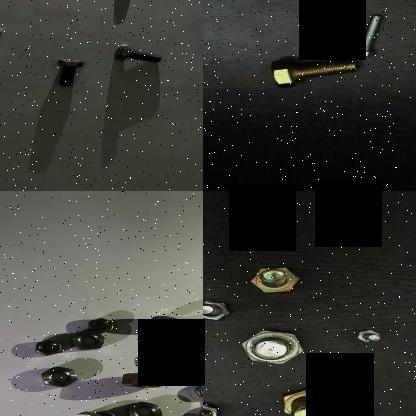Bolts: (255, 54, 364, 90), (234, 326, 310, 366), (241, 262, 310, 294), (348, 10, 391, 61), (274, 386, 341, 416), (46, 53, 89, 89), (108, 41, 164, 63), (203, 295, 234, 326), (346, 327, 386, 346), (203, 399, 227, 416)
NUTS: (38, 364, 80, 388), (70, 327, 107, 351), (148, 314, 190, 332), (32, 336, 66, 356), (125, 399, 164, 416), (159, 342, 189, 364), (178, 342, 203, 366), (87, 315, 117, 335), (60, 408, 105, 416), (94, 406, 118, 416), (194, 379, 203, 397)
